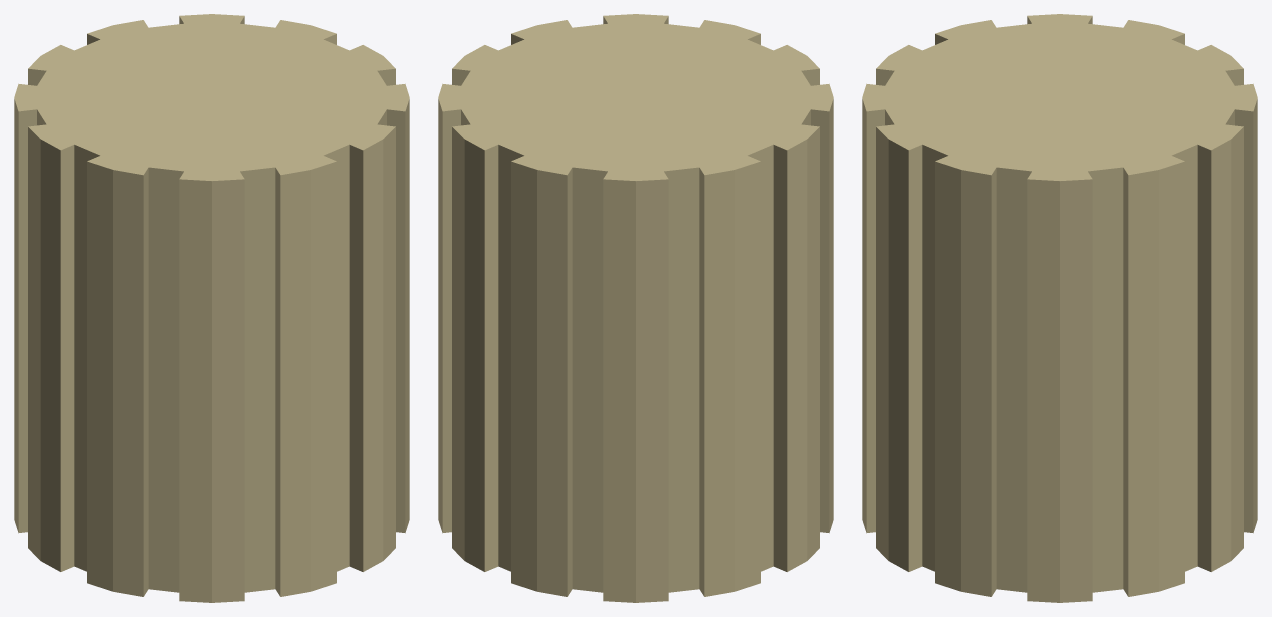
The model's file is column_middle.fbx.
The picture shows the model from 3 angles, left to right: view 1: azimuth 30°, elevation 25°; view 2: azimuth 150°, elevation 25°; view 3: azimuth 270°, elevation 25°; orthographic projection.
Visible parts, largest first — view 1: with bottom; view 2: with bottom; view 3: with bottom.
Boxes of the visible parts, x1,y1,x2,y2 form: with bottom: [14, 14, 409, 602]; with bottom: [438, 14, 833, 602]; with bottom: [862, 14, 1257, 602].
Size of the model in its own units: 340 by 400 by 340.
